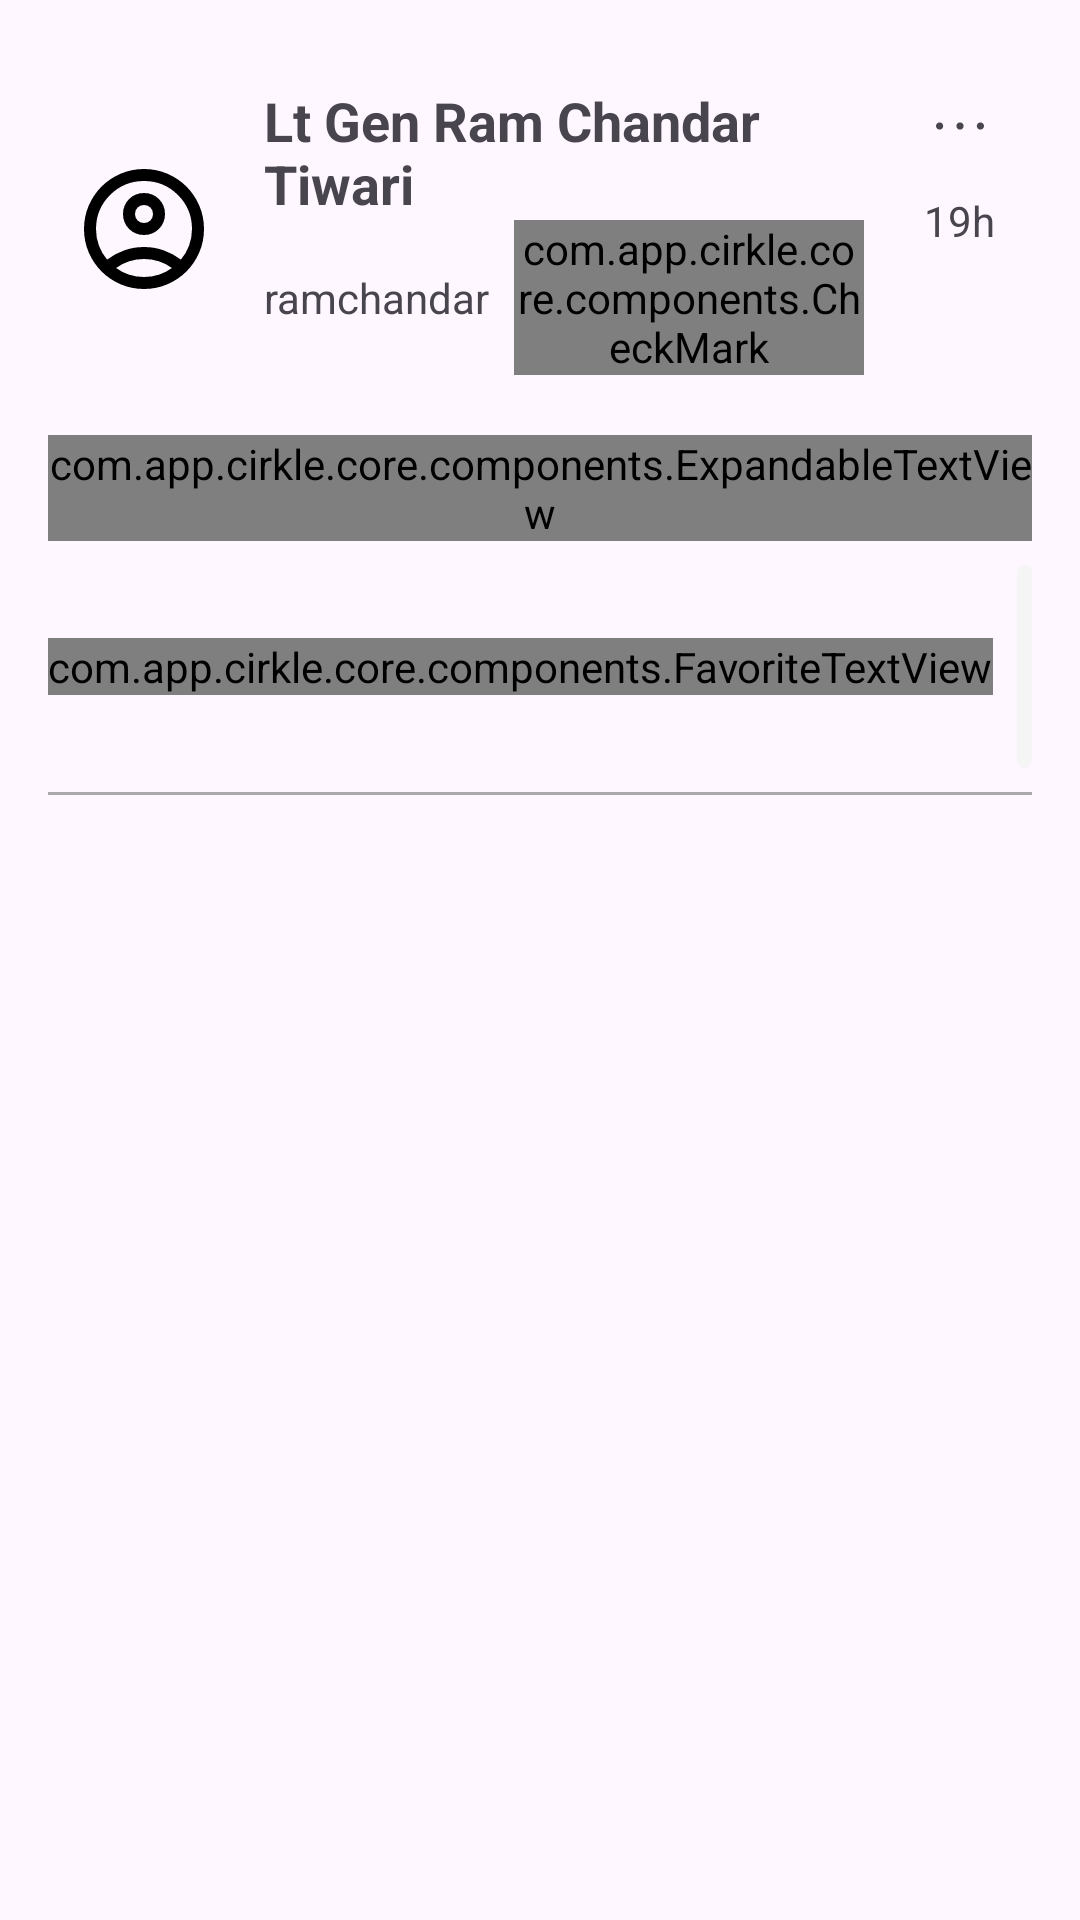

Where to tap for icons on this 1080×1920 app screen, as point (x, y):
account circle: point (144, 229)
more: point (960, 126)
